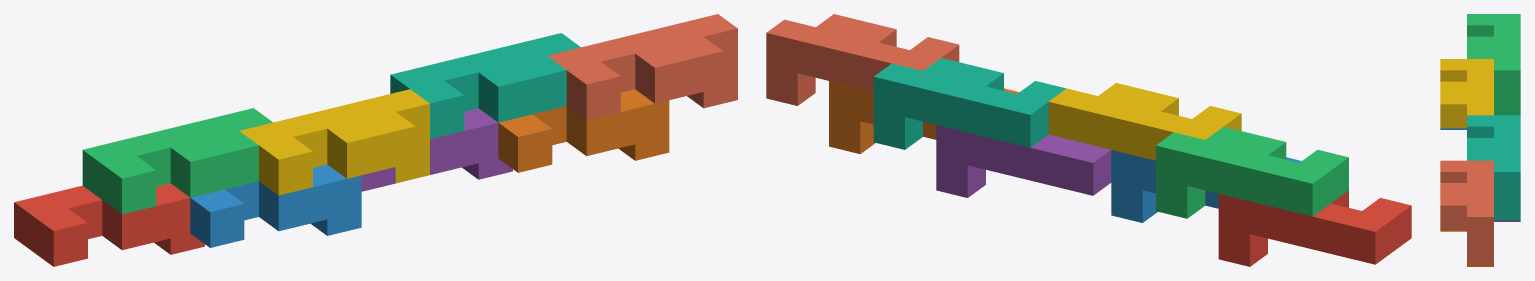
File: tiling.obj
3 views of the same model, side by side, from view 1: azimuth 30°, elevation 25°; view 2: azimuth 150°, elevation 25°; view 3: azimuth 270°, elevation 25° (orthographic). The views are drawn at different scales.
Parts seen in each view (by area): view 1: copy_1_domain_8, copy_1_domain_4, copy_1_domain_3, copy_1_domain_7, copy_1_domain_1, copy_1_domain_6, copy_1_domain_2, copy_1_domain_5; view 2: copy_1_domain_3, copy_1_domain_7, copy_1_domain_8, copy_1_domain_1, copy_1_domain_4, copy_1_domain_5, copy_1_domain_2, copy_1_domain_6; view 3: copy_1_domain_8, copy_1_domain_7, copy_1_domain_3, copy_1_domain_4, copy_1_domain_6.
Part boxes in pixels (box(x1,y1,x2,y2)): copy_1_domain_8: box(547, 14, 737, 120); copy_1_domain_4: box(239, 89, 429, 195); copy_1_domain_3: box(82, 108, 272, 214); copy_1_domain_7: box(390, 33, 580, 139); copy_1_domain_1: box(14, 183, 204, 266); copy_1_domain_6: box(498, 89, 669, 172); copy_1_domain_2: box(190, 164, 361, 247); copy_1_domain_5: box(361, 108, 512, 191); copy_1_domain_3: box(1156, 126, 1348, 218); copy_1_domain_7: box(873, 58, 1066, 149); copy_1_domain_8: box(766, 14, 959, 105); copy_1_domain_1: box(1218, 190, 1411, 266); copy_1_domain_4: box(1048, 83, 1241, 160); copy_1_domain_5: box(936, 125, 1111, 197); copy_1_domain_2: box(1111, 150, 1301, 222); copy_1_domain_6: box(829, 81, 1019, 154); copy_1_domain_8: box(1440, 160, 1493, 265); copy_1_domain_7: box(1467, 115, 1520, 220); copy_1_domain_3: box(1467, 14, 1520, 115); copy_1_domain_4: box(1440, 59, 1493, 128); copy_1_domain_6: box(1440, 230, 1493, 266).
Bounding box in the file's own units: 20 × 3 × 3.
